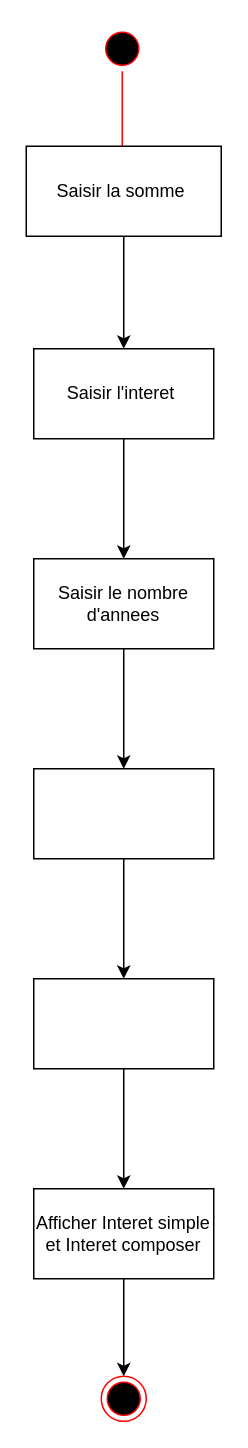
This 248x1448 diagram has some shape labels left out. The shapes that lost their labels are listed below. From the top down, each one's centre as x and y in pixels, then its label:
At [123,813]: "Calculler l'interet simple Somme (1+annees*Interet)".
At [123,1023]: "Calculer l'interet composer Somme (1³Interet)".
